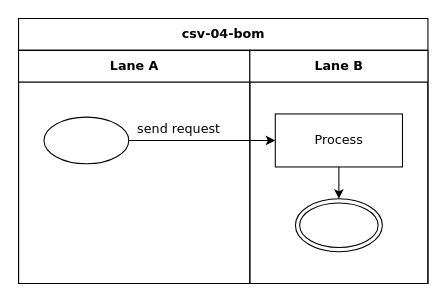
Image size: 447x302. Some labels were removed from this diagram. Each missing label, with the centre of its shape:
"Done" goes at (338,225).
"Start" goes at (86,140).
